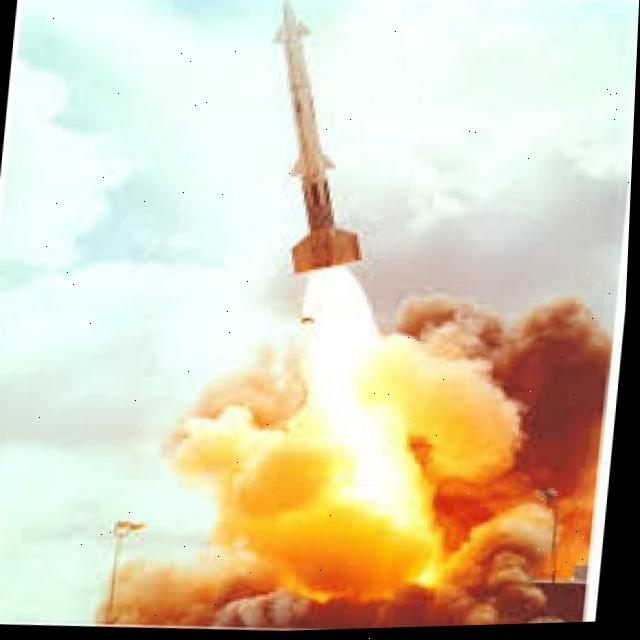missile: (250, 0, 397, 283)
